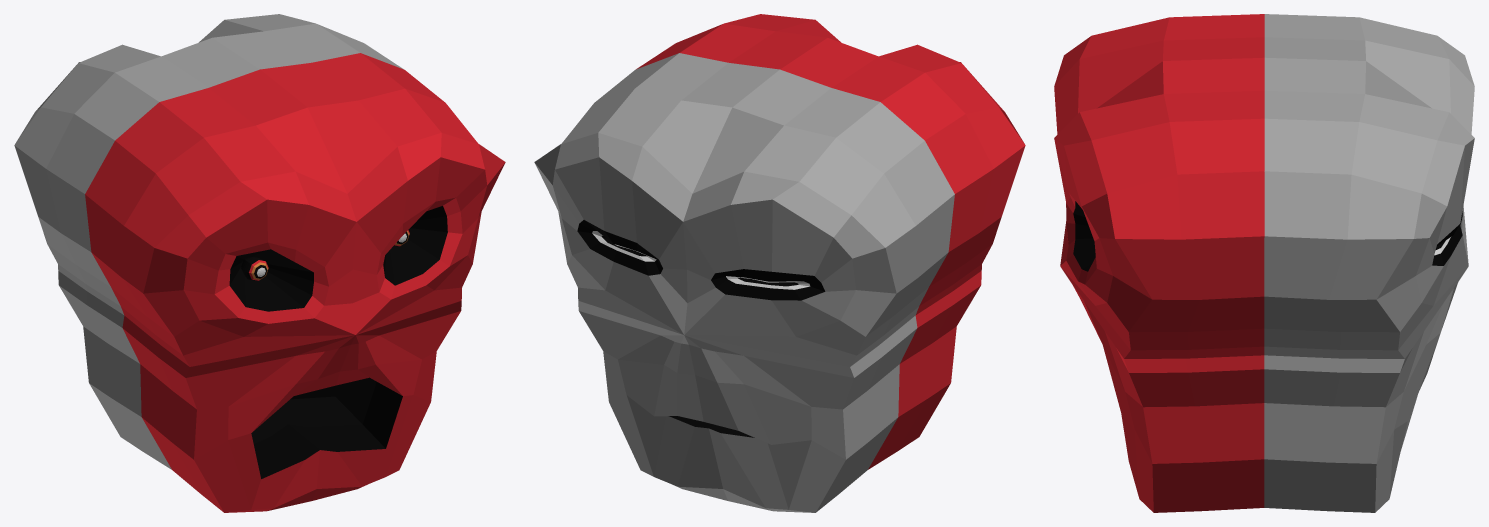
The model's file is Ghost Head.fbx.
The picture shows the model from 3 angles, left to right: view 1: azimuth 30°, elevation 25°; view 2: azimuth 150°, elevation 25°; view 3: azimuth 270°, elevation 25°; orthographic projection. The views are drawn at different scales.
Parts seen in each view (by area): view 1: Suzanne.001; view 2: Suzanne.001; view 3: Suzanne.001.
Boxes of the visible parts, bbox=[...] form: Suzanne.001: bbox=[14, 14, 505, 512]; Suzanne.001: bbox=[534, 14, 1025, 512]; Suzanne.001: bbox=[1054, 14, 1474, 512].
Bounding box in the file's own units: 172 × 184 × 167.
